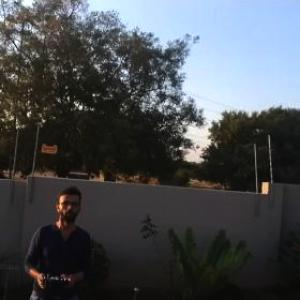follow: (19, 182, 96, 299)
